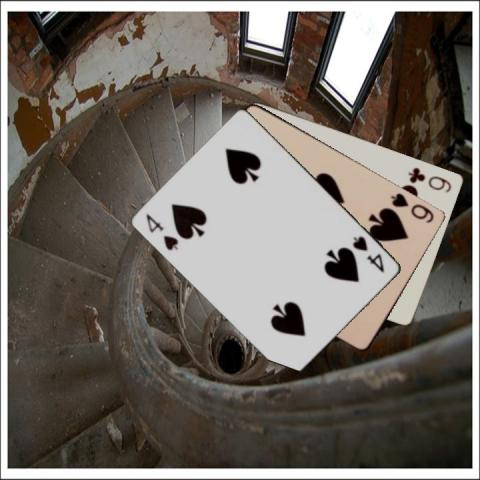4s: (350, 233, 387, 274), (143, 211, 180, 252)
6c: (406, 164, 454, 195)
6s: (388, 189, 436, 225)
